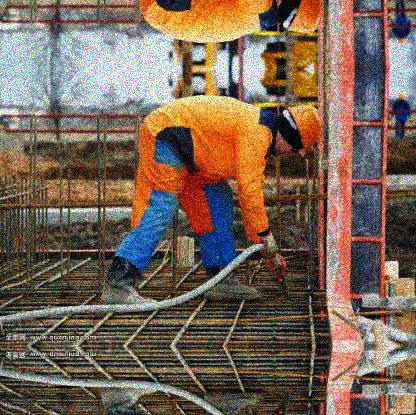helmet: (273, 106, 324, 159), (270, 1, 327, 34), (398, 36, 406, 46), (399, 95, 405, 102)
